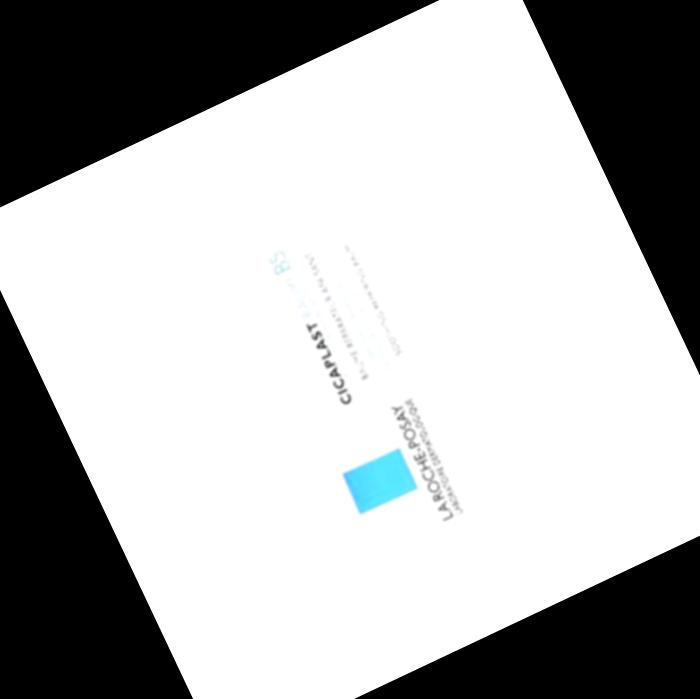cosmetic: (151, 86, 562, 633)
